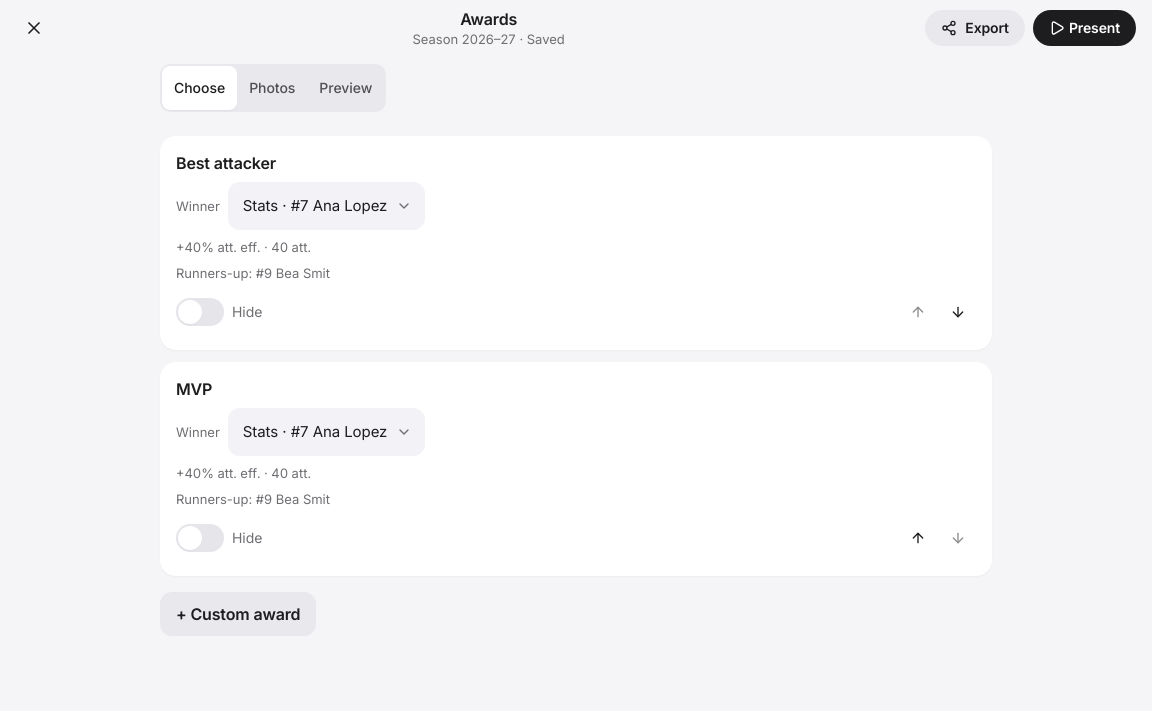
AwardsPrepare › branding: stops adding sponsors at six
Click the tab "Preview" at (346, 88), box [307,66,384,110]
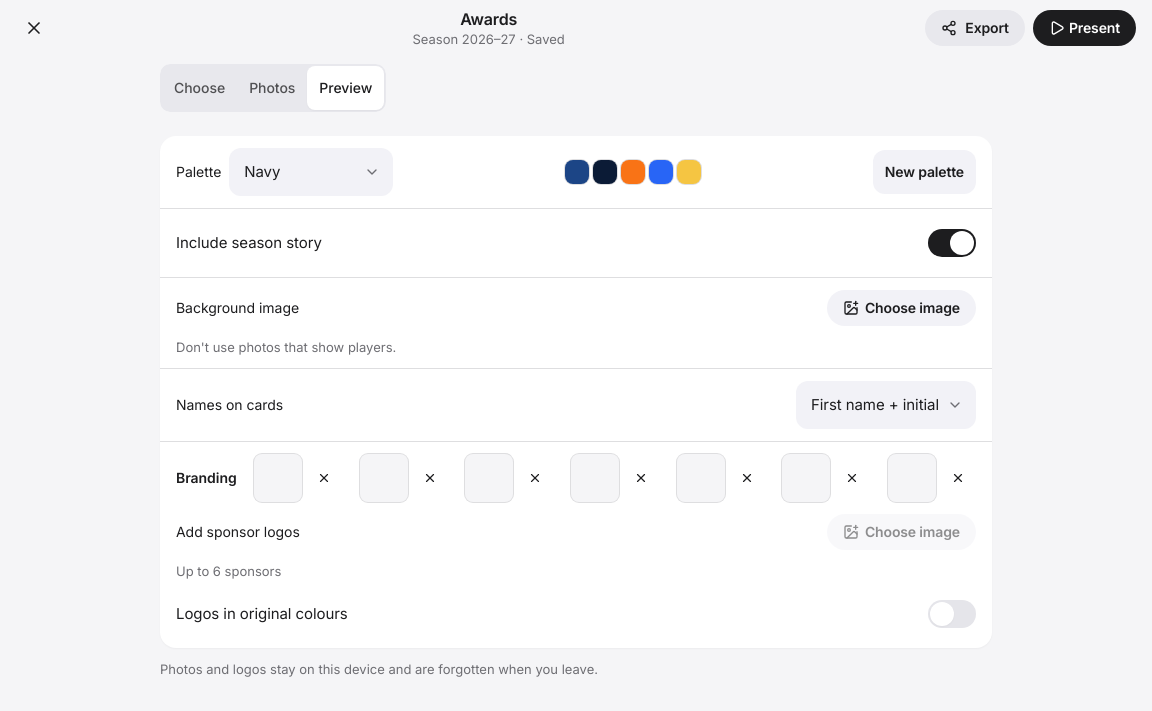
Expected: the file field labelled "Add sponsor logos" is disabled, [176,514,976,550]
Expected: the text "Up to 6 sponsors" is shown, [176,562,281,580]
Expected: the button named "Remove club logo" is shown, [306,460,342,496]
